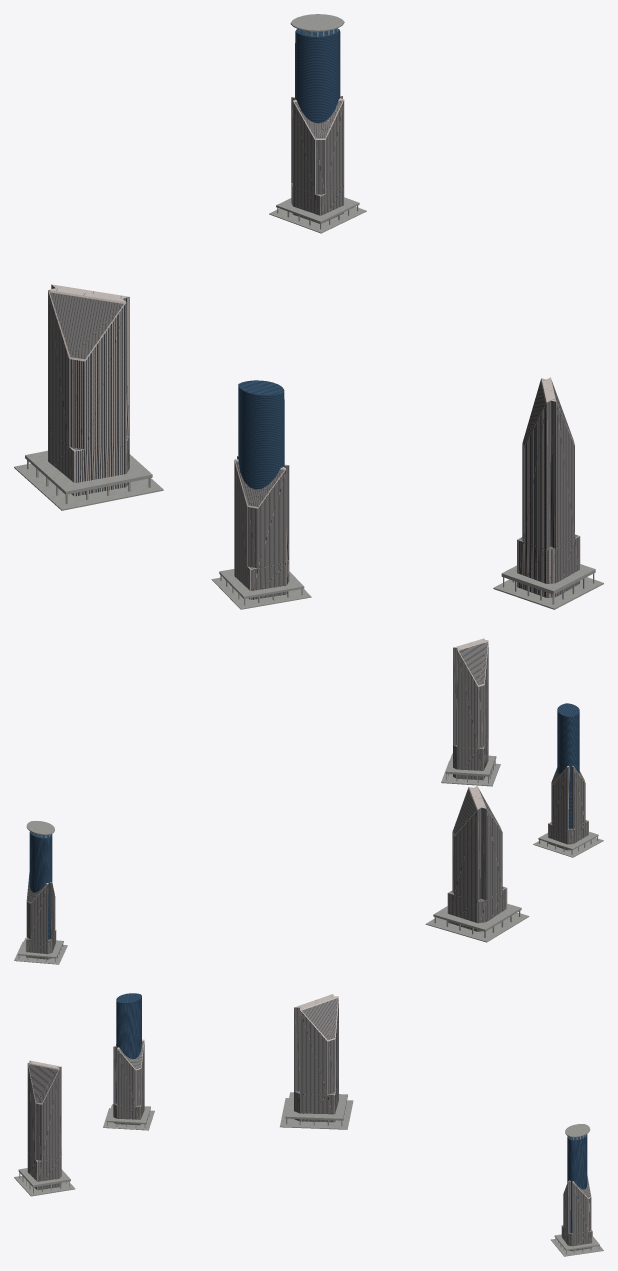
File: China_track_building_city_01.dae
3 renders of one model, top to bottom at view 1: azimuth 30°, elevation 25°; view 2: azimuth 150°, elevation 25°; view 3: azimuth 270°, elevation 25°, orthographic. The views are drawn at different scales.
Visible parts, largest first — view 1: building_city_01_03, building_city_01_01, building_city_01_04, building_city_01_02; view 2: building_city_01_03, building_city_01_04, building_city_01_01, building_city_01_02; view 3: building_city_01_03, building_city_01_04, building_city_01_01, building_city_01_02.
Part boxes in pixels (left/top/right/bottom): building_city_01_03: left=14, top=284, right=163, bottom=510; building_city_01_01: left=211, top=380, right=311, bottom=609; building_city_01_04: left=493, top=377, right=603, bottom=609; building_city_01_02: left=269, top=14, right=366, bottom=233; building_city_01_03: left=425, top=786, right=529, bottom=942; building_city_01_04: left=441, top=638, right=500, bottom=786; building_city_01_01: left=533, top=703, right=603, bottom=857; building_city_01_02: left=14, top=820, right=67, bottom=964; building_city_01_03: left=280, top=994, right=353, bottom=1129; building_city_01_04: left=14, top=1060, right=75, bottom=1196; building_city_01_01: left=103, top=993, right=154, bottom=1130; building_city_01_02: left=551, top=1124, right=603, bottom=1256.
Bounding box in the file's own units: 29.86 × 47.12 × 10.7.
3 materials, 3 textured.
